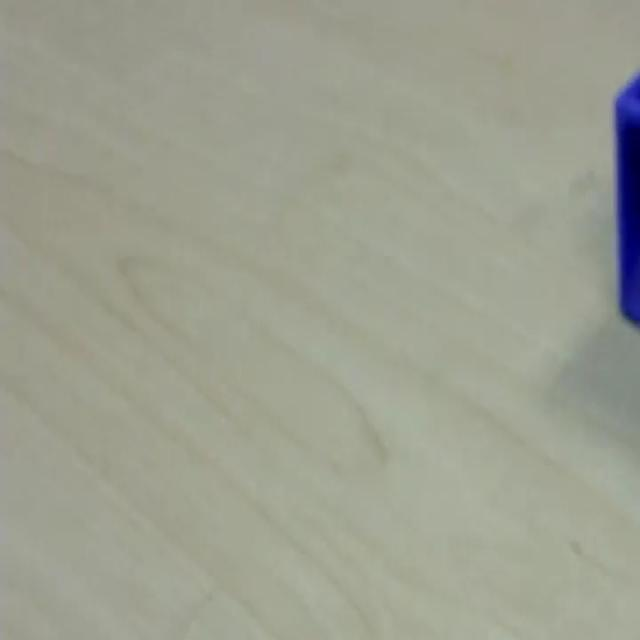blue_block: (612, 67, 639, 324)
